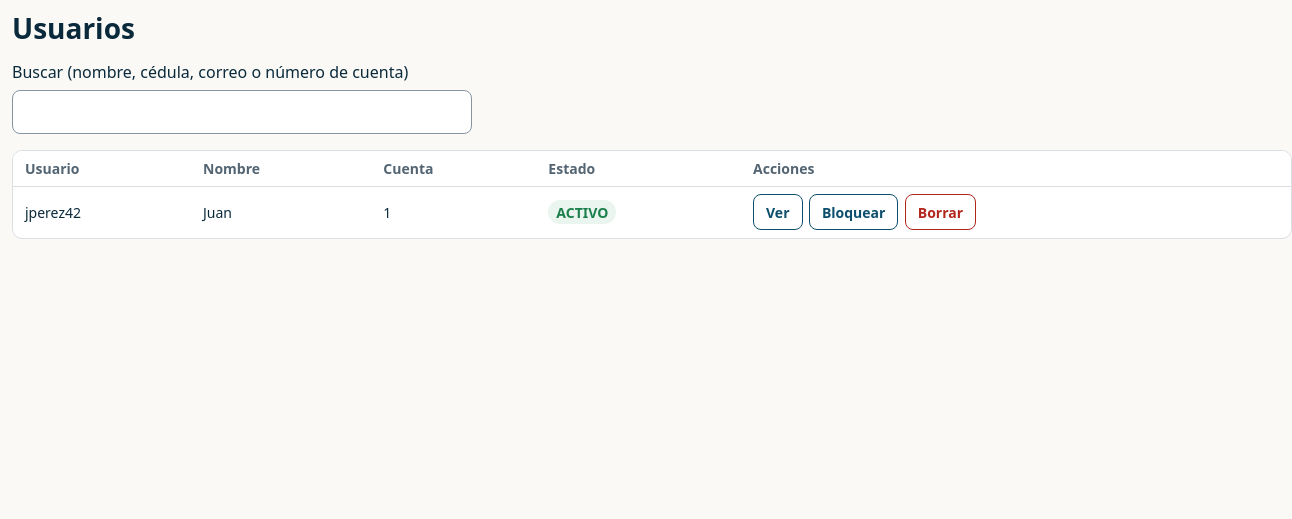
Test: 1. sin datos viejos tras un 503 › Usuarios limpia lista y detalle con 503
Click the button "Ver" at (778, 212), box x1=753 y1=194 x2=802 y2=230
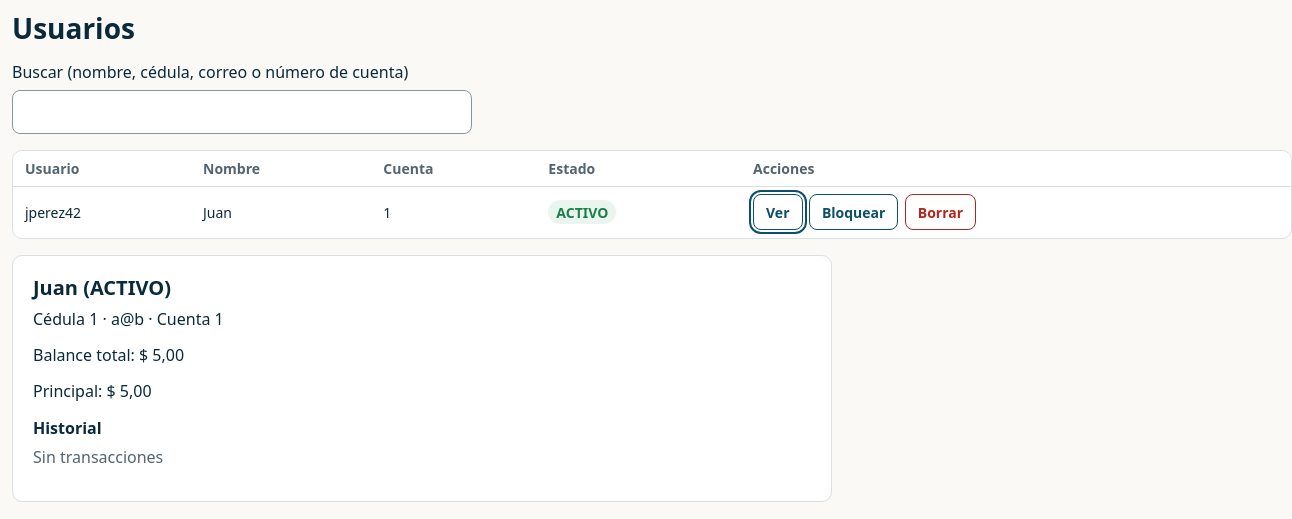
Result: the element named "Detalle de usuario" is shown at x1=12 y1=254 x2=832 y2=502
Type "a" into the field labelled "Buscar (nombre, cédula, correo o número de cuenta)" at (242, 112), box x1=12 y1=90 x2=472 y2=134
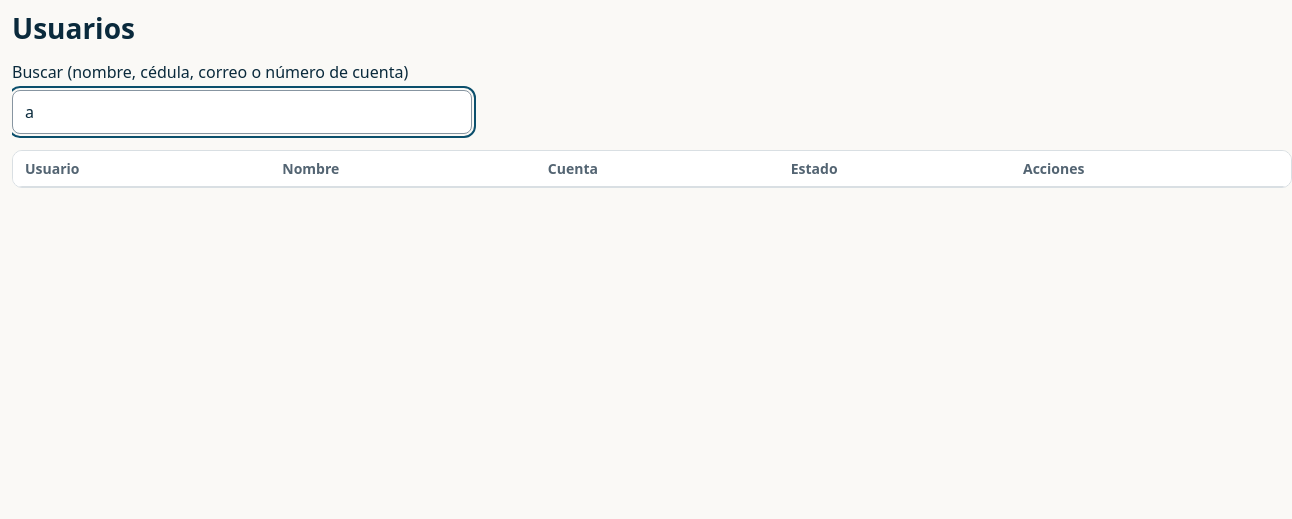
Result: the text "jperez42" is gone
